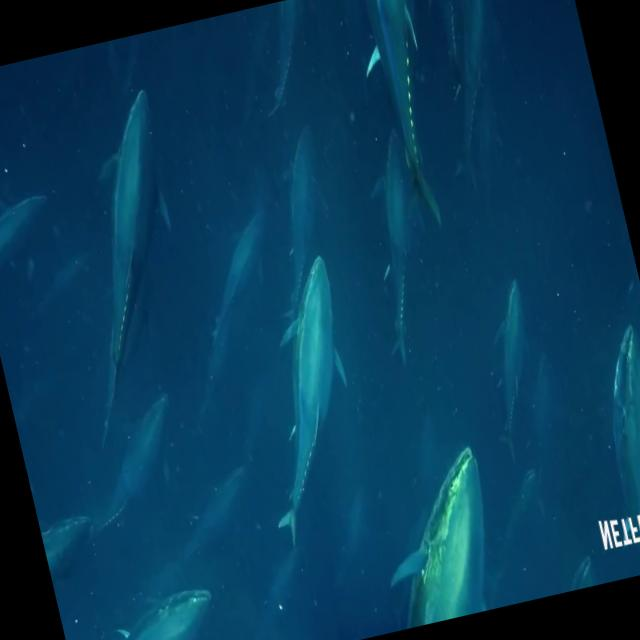fish: (23, 95, 231, 458), (226, 253, 390, 548), (345, 0, 471, 231), (366, 444, 516, 629), (585, 328, 640, 575), (58, 573, 226, 640)
